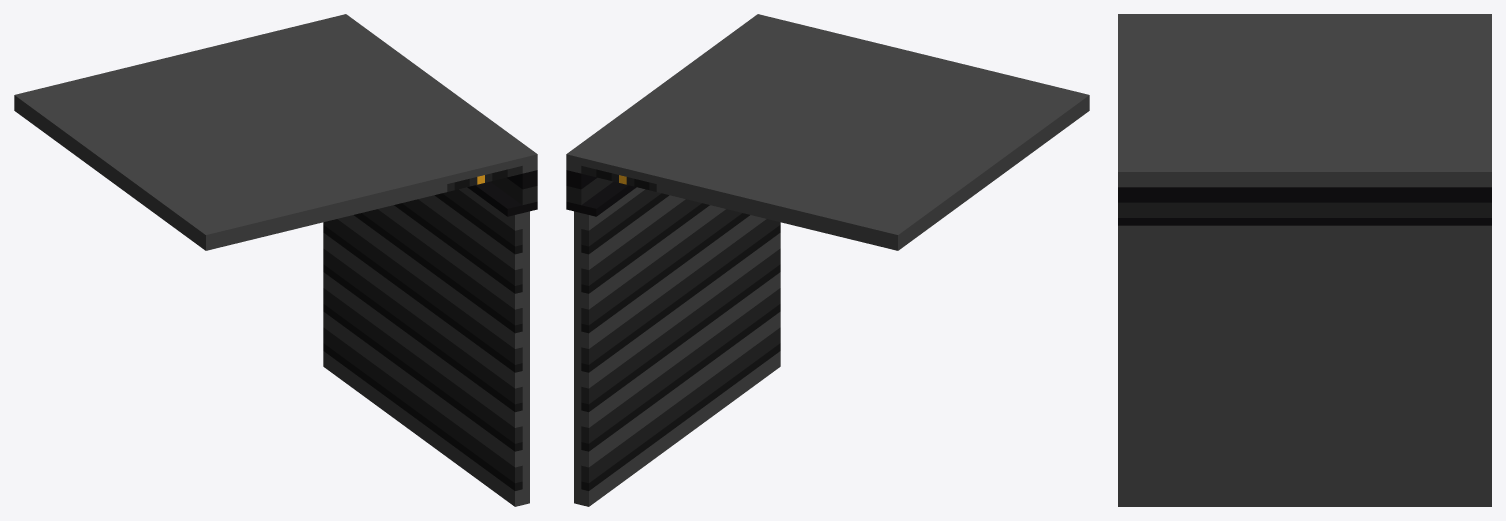
Rendered from mesh_hanger_ship_door_top_middle.obj.
The picture shows the model from 3 angles, left to right: view 1: azimuth 30°, elevation 25°; view 2: azimuth 150°, elevation 25°; view 3: azimuth 270°, elevation 25°; orthographic projection. The views are drawn at different scales.
Size of the model in its own units: 4.4 by 4.4 by 4.4.
Materials: 1 (1 with a texture image).
